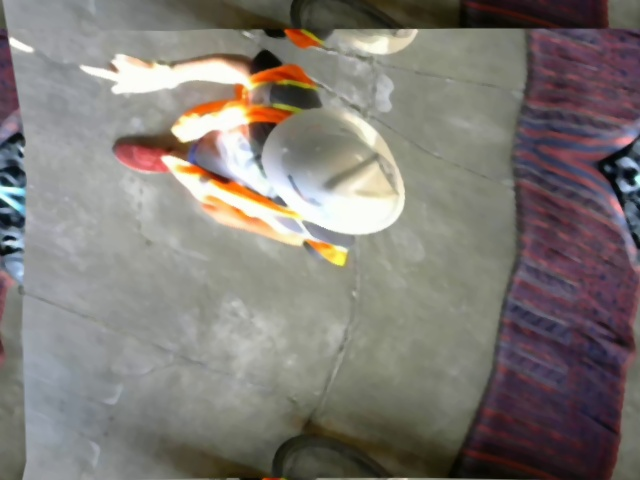three: (377, 152, 401, 197)
